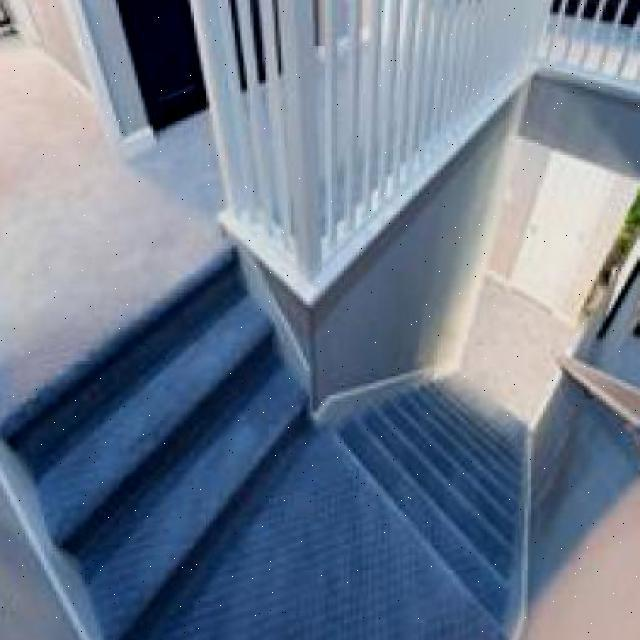stair: (325, 323, 591, 623)
